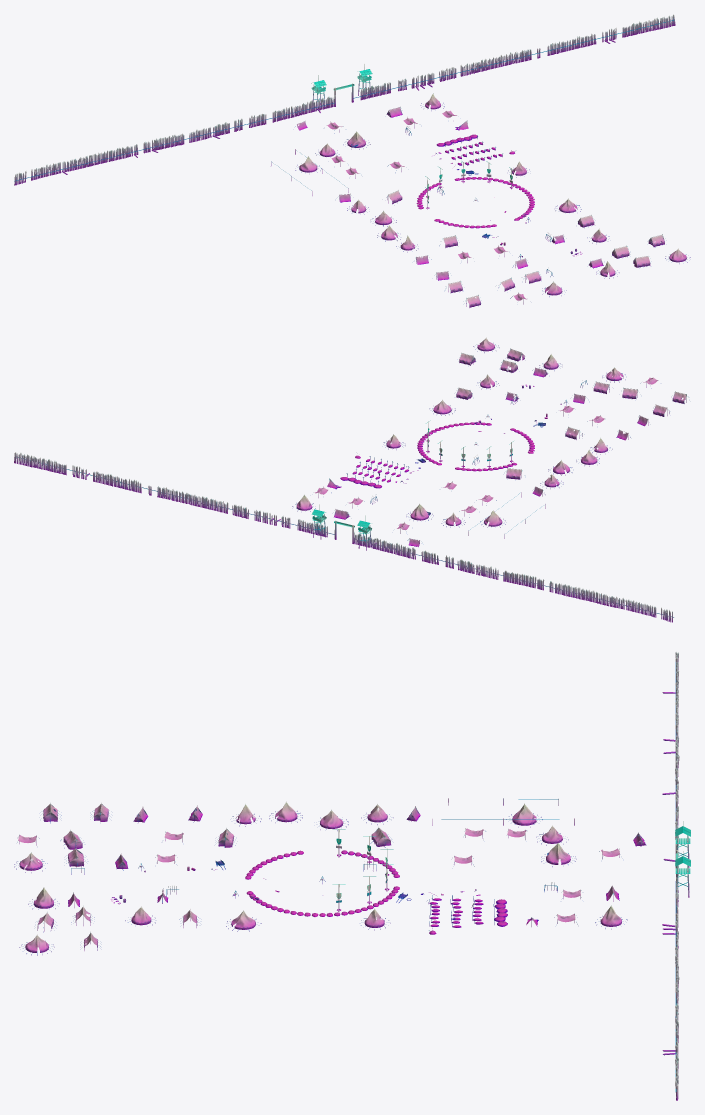
File: camp.glb
3 renders of one model, top to bottom at view 1: azimuth 30°, elevation 25°; view 2: azimuth 150°, elevation 25°; view 3: azimuth 270°, elevation 25°, orthographic. The views are drawn at different scales.
Visible parts, largest first — view 1: Muster camp; view 2: Muster camp; view 3: Muster camp.
Boxes of the visible parts, x1,y1,x2,y2 form: Muster camp: (14, 14, 690, 307); Muster camp: (14, 337, 686, 622); Muster camp: (14, 652, 690, 1100).
Size of the model in its own units: 261 by 14.39 by 172.
